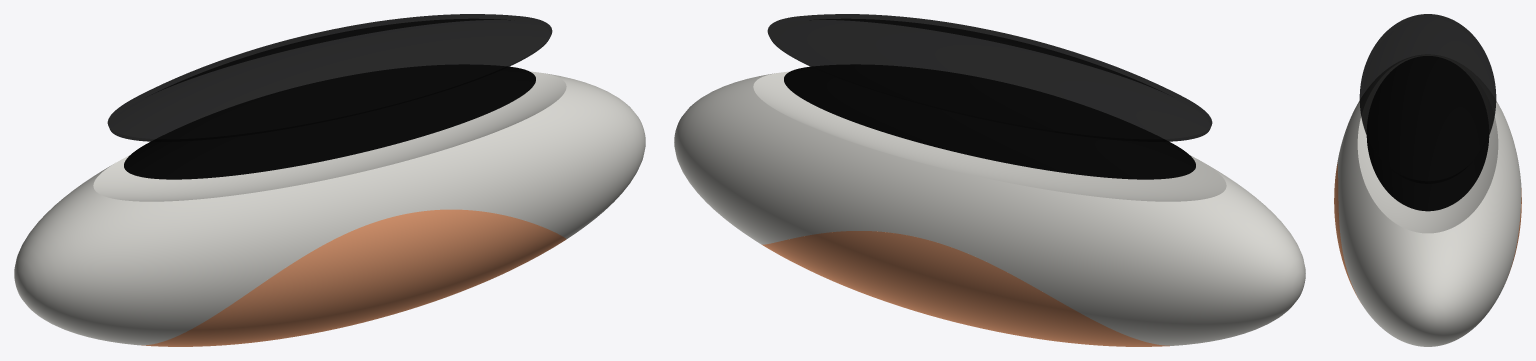
File: Simple3D_VR_highpoly_matVray.fbx
3 views of the same model, side by side, from view 1: azimuth 30°, elevation 25°; view 2: azimuth 150°, elevation 25°; view 3: azimuth 270°, elevation 25° (orthographic). The views are drawn at different scales.
Visible parts, largest first — view 1: Objekt_4, Objekt_3, Objekt_5, Objekt_2; view 2: Objekt_4, Objekt_3, Objekt_5, Objekt_2; view 3: Objekt_4, Objekt_3, Objekt_2, Objekt_5.
Part boxes in pixels (bbox=[...]): Objekt_4: bbox=[14, 71, 645, 345]; Objekt_3: bbox=[107, 14, 552, 141]; Objekt_5: bbox=[141, 209, 566, 346]; Objekt_2: bbox=[124, 66, 535, 179]; Objekt_4: bbox=[674, 71, 1305, 345]; Objekt_3: bbox=[767, 14, 1212, 141]; Objekt_5: bbox=[762, 231, 1169, 346]; Objekt_2: bbox=[784, 66, 1195, 179]; Objekt_4: bbox=[1337, 100, 1521, 346]; Objekt_3: bbox=[1359, 14, 1496, 183]; Objekt_2: bbox=[1366, 136, 1489, 211]; Objekt_5: bbox=[1334, 162, 1521, 302].
Size of what is drawn, in the model's own units: 7.5 by 3.14 by 2.5.
